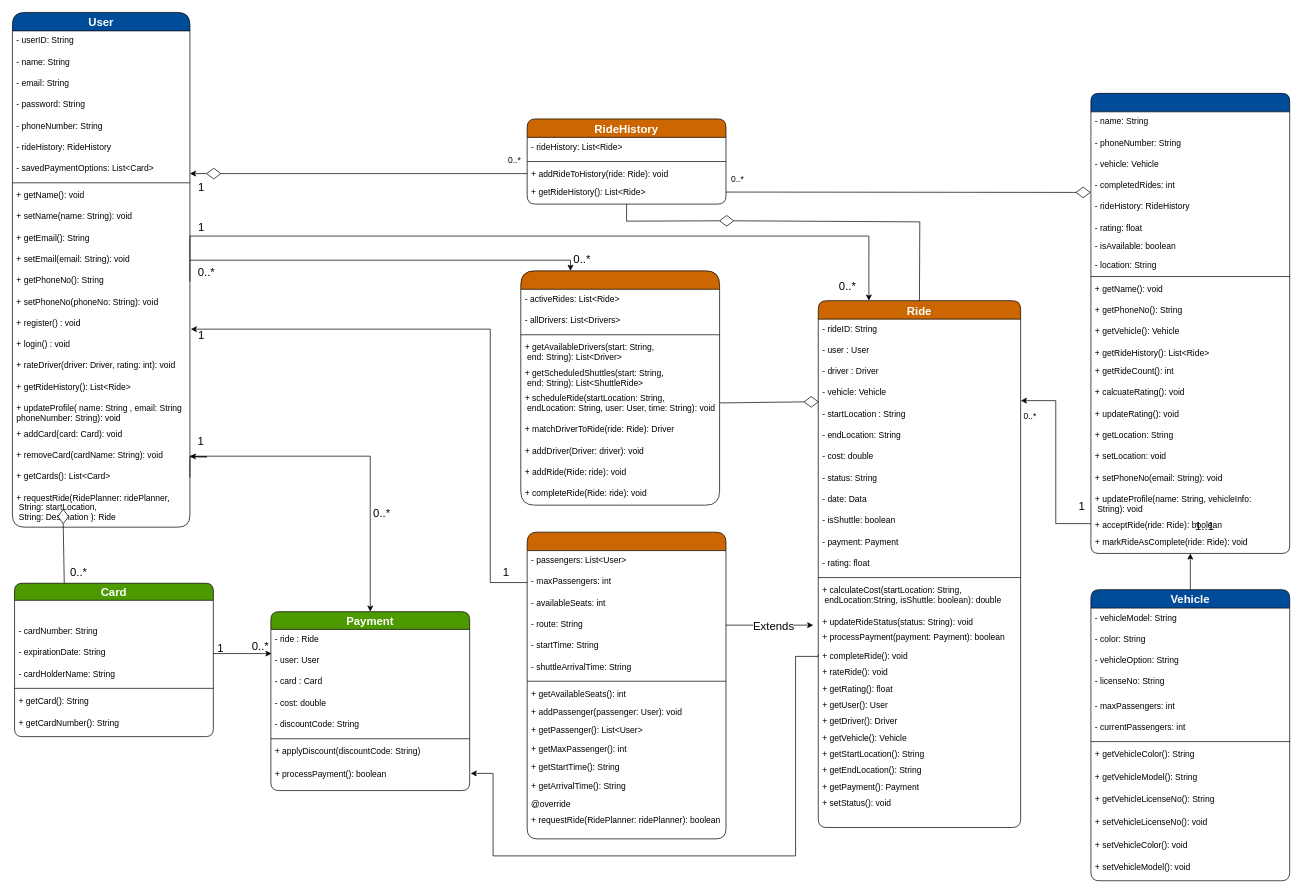
Some shapes in this 1302 by 895 pixel diagram are drawn without their labels. The box of each missing label's shape, as (x1, y1, x2, y2) in pixels:
Driver: (1090, 93, 1290, 553)
RidePlanner: (520, 270, 720, 505)
ShuttleRide: (526, 531, 726, 839)
